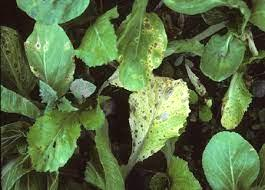Bok-Choy-Diseased: (114, 75, 190, 164), (116, 4, 167, 93), (20, 21, 77, 92), (25, 110, 80, 171), (218, 72, 255, 131)
